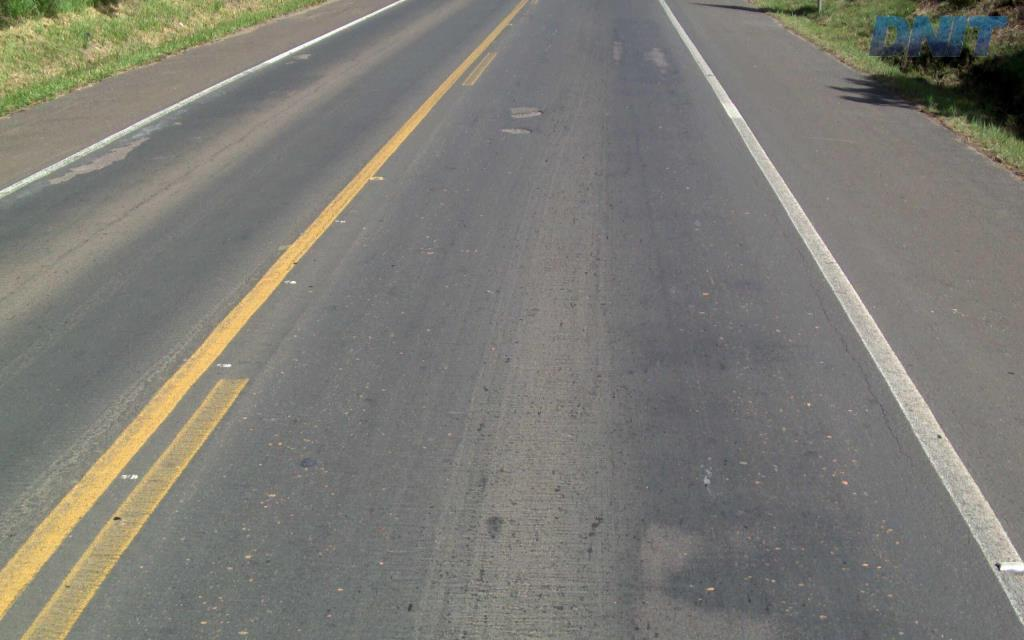pothole: (506, 105, 542, 117), (498, 124, 533, 136)
